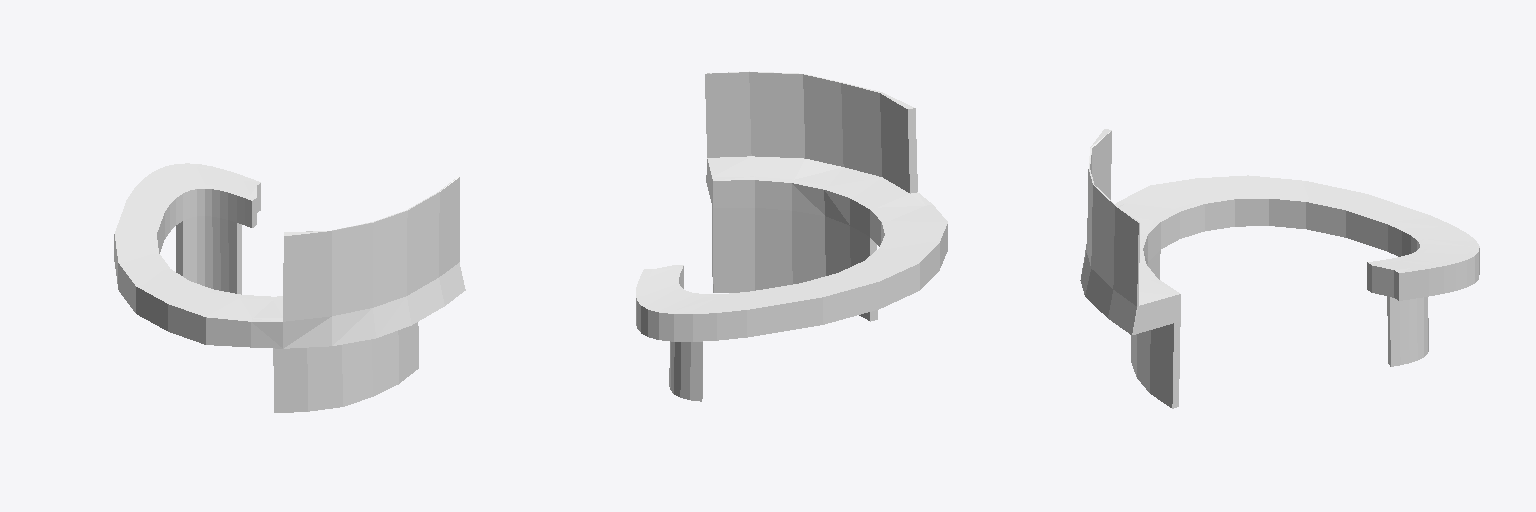
The model's file is stage_platform.obj.
3 views of the same model, side by side, from view 1: azimuth 30°, elevation 25°; view 2: azimuth 150°, elevation 25°; view 3: azimuth 270°, elevation 25° (orthographic).
Visible parts, largest first — view 1: logo_stage_CUBezierCurve.001; view 2: logo_stage_CUBezierCurve.001; view 3: logo_stage_CUBezierCurve.001.
Boxes of the visible parts, box(x1,y1,x2,y2) form: logo_stage_CUBezierCurve.001: box(114, 163, 465, 412); logo_stage_CUBezierCurve.001: box(636, 71, 947, 401); logo_stage_CUBezierCurve.001: box(1080, 129, 1479, 408).
Bounding box in the file's own units: 42.48 × 29.81 × 54.1.